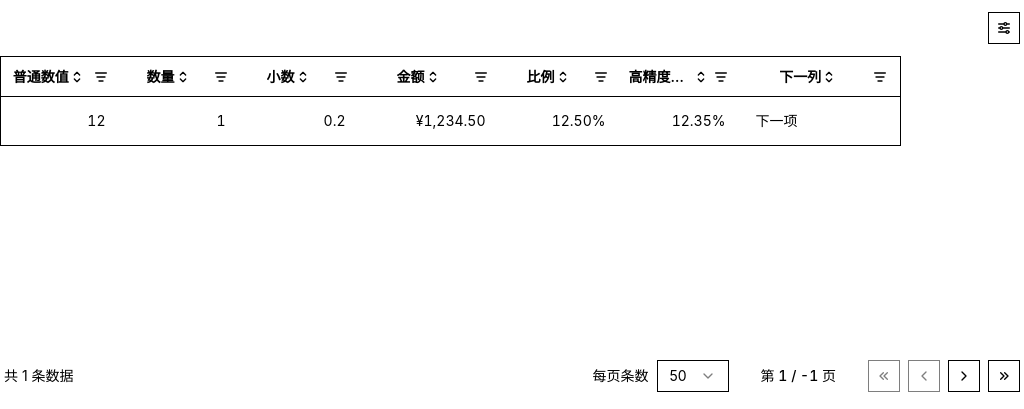
DataTableEditableNumberCell › renders money adornments but rejects a foreign currency symbol
The width and height of the screenshot is (1024, 409).
Double-click the cell "¥1,234.50" at (430, 121), box [360,97,500,145]
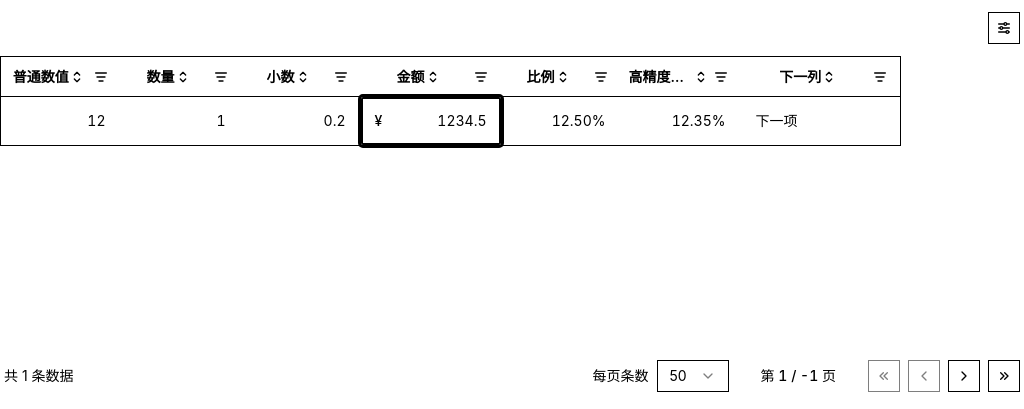
Expected: the field named "编辑金额" holds "1234.5"
Replace the text in the field named "编辑金额" with "$2,000.50" at (440, 121), box [382,99,498,142]
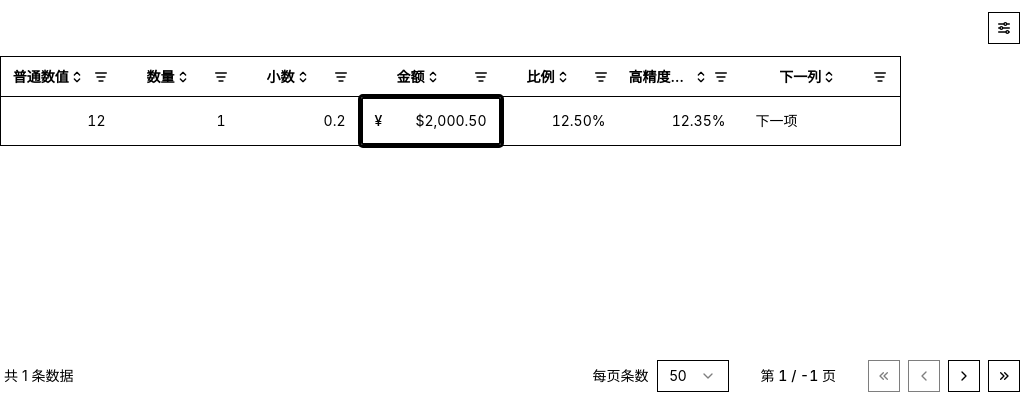
Replace the text in the field named "编辑金额" with "CNY 2,000.50" at (440, 121), box [382,99,498,142]
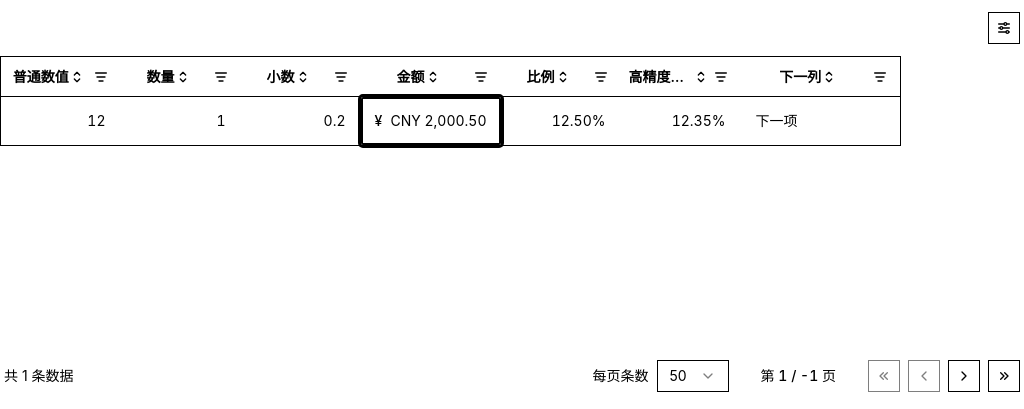
Press Enter
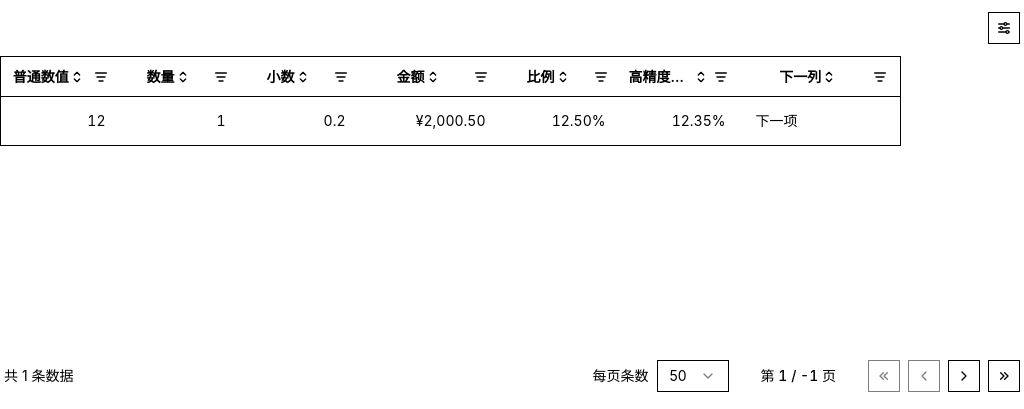
Expected: the cell "¥2,000.50" is shown, [360,97,500,145]
